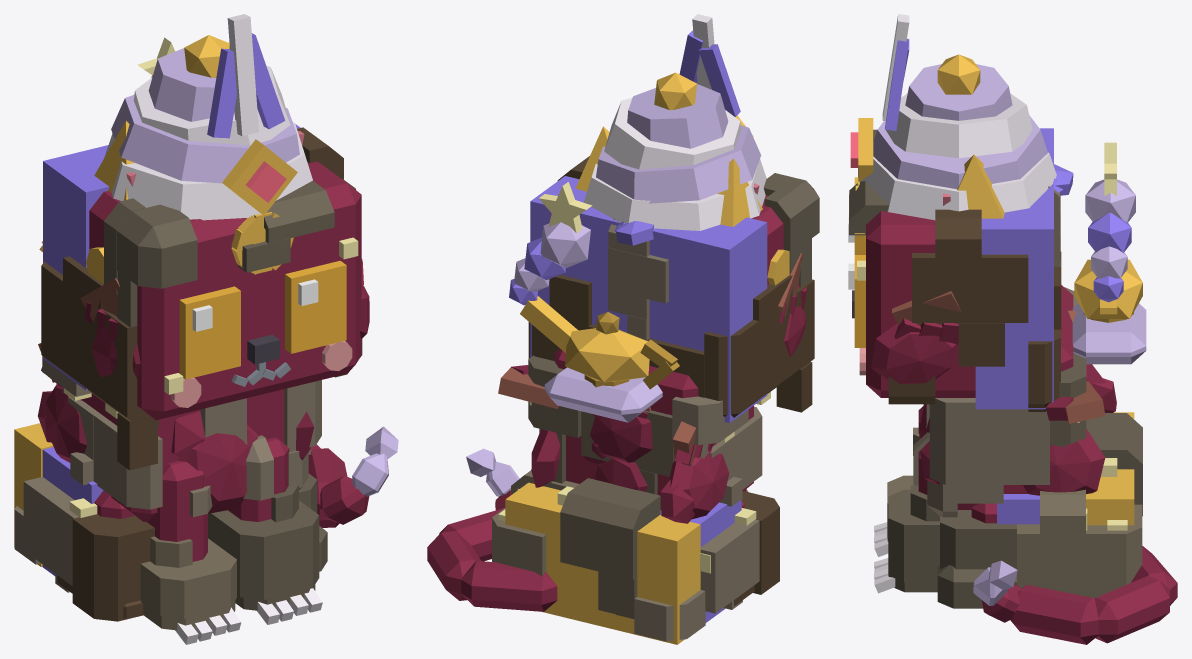
The model's file is CleanACat_Cat_Djinn_Dirty_Sit.fbx.
The picture shows the model from 3 angles, left to right: view 1: azimuth 30°, elevation 25°; view 2: azimuth 150°, elevation 25°; view 3: azimuth 270°, elevation 25°; orthographic projection. The views are drawn at different scales.
Visible parts, largest first — view 1: CleanACat_Cat_Djinn_Dirty_Sit_Head, CleanACat_Cat_Djinn_Dirty_Sit_Prop, CleanACat_Cat_Djinn_Dirty_Sit_Mud01, CleanACat_Cat_Djinn_Dirty_Sit_Mud17, CleanACat_Cat_Djinn_Dirty_Sit_Mud06, CleanACat_Cat_Djinn_Dirty_Sit_Body, CleanACat_Cat_Djinn_Dirty_Sit_Mud16, CleanACat_Cat_Djinn_Dirty_Sit_Mud18, CleanACat_Cat_Djinn_Dirty_Sit_Mud10, CleanACat_Cat_Djinn_Dirty_Sit_Eye1, CleanACat_Cat_Djinn_Dirty_Sit_Eye2, CleanACat_Cat_Djinn_Dirty_Sit_Tail (+18 smaller); view 2: CleanACat_Cat_Djinn_Dirty_Sit_Prop, CleanACat_Cat_Djinn_Dirty_Sit_Head, CleanACat_Cat_Djinn_Dirty_Sit_Body, CleanACat_Cat_Djinn_Dirty_Sit_Prop2, CleanACat_Cat_Djinn_Dirty_Sit_Mud01, CleanACat_Cat_Djinn_Dirty_Sit_Mud13, CleanACat_Cat_Djinn_Dirty_Sit_Tail, CleanACat_Cat_Djinn_Dirty_Sit_Mud14, CleanACat_Cat_Djinn_Dirty_Sit_Mud09, CleanACat_Cat_Djinn_Dirty_Sit_Mud04, CleanACat_Cat_Djinn_Dirty_Sit_Mud06, CleanACat_Cat_Djinn_Dirty_Sit_Fluff06 (+15 smaller); view 3: CleanACat_Cat_Djinn_Dirty_Sit_Prop, CleanACat_Cat_Djinn_Dirty_Sit_Head, CleanACat_Cat_Djinn_Dirty_Sit_Mud02, CleanACat_Cat_Djinn_Dirty_Sit_Mud08, CleanACat_Cat_Djinn_Dirty_Sit_Prop2, CleanACat_Cat_Djinn_Dirty_Sit_Tail, CleanACat_Cat_Djinn_Dirty_Sit_Mud12, CleanACat_Cat_Djinn_Dirty_Sit_Body, CleanACat_Cat_Djinn_Dirty_Sit_Mud15, CleanACat_Cat_Djinn_Dirty_Sit_Mud17, CleanACat_Cat_Djinn_Dirty_Sit_Fluff01, CleanACat_Cat_Djinn_Dirty_Sit_Fluff05 (+12 smaller).
Boxes of the visible parts, x1,y1,x2,y2 form: CleanACat_Cat_Djinn_Dirty_Sit_Head: (43,124,361,420); CleanACat_Cat_Djinn_Dirty_Sit_Prop: (86,14,312,284); CleanACat_Cat_Djinn_Dirty_Sit_Mud01: (41,256,158,470); CleanACat_Cat_Djinn_Dirty_Sit_Mud17: (208,484,319,610); CleanACat_Cat_Djinn_Dirty_Sit_Mud06: (104,198,197,327); CleanACat_Cat_Djinn_Dirty_Sit_Body: (14,388,284,575); CleanACat_Cat_Djinn_Dirty_Sit_Mud16: (57,514,154,621); CleanACat_Cat_Djinn_Dirty_Sit_Mud18: (140,536,236,630); CleanACat_Cat_Djinn_Dirty_Sit_Mud10: (68,396,162,509); CleanACat_Cat_Djinn_Dirty_Sit_Eye1: (285,260,346,353); CleanACat_Cat_Djinn_Dirty_Sit_Eye2: (179,286,240,379); CleanACat_Cat_Djinn_Dirty_Sit_Tail: (308,426,398,527); CleanACat_Cat_Djinn_Dirty_Sit_Prop: (583,14,789,285); CleanACat_Cat_Djinn_Dirty_Sit_Head: (530,176,783,422); CleanACat_Cat_Djinn_Dirty_Sit_Body: (498,348,770,644); CleanACat_Cat_Djinn_Dirty_Sit_Prop2: (509,182,679,422); CleanACat_Cat_Djinn_Dirty_Sit_Mud01: (646,275,814,417); CleanACat_Cat_Djinn_Dirty_Sit_Mud13: (560,478,660,618); CleanACat_Cat_Djinn_Dirty_Sit_Tail: (427,448,557,611); CleanACat_Cat_Djinn_Dirty_Sit_Mud14: (634,519,759,641); CleanACat_Cat_Djinn_Dirty_Sit_Mud09: (528,355,673,494); CleanACat_Cat_Djinn_Dirty_Sit_Mud04: (608,217,668,340); CleanACat_Cat_Djinn_Dirty_Sit_Mud06: (763,173,819,287); CleanACat_Cat_Djinn_Dirty_Sit_Fluff06: (660,447,729,523); CleanACat_Cat_Djinn_Dirty_Sit_Prop: (858,14,1056,220); CleanACat_Cat_Djinn_Dirty_Sit_Head: (852,128,1053,409); CleanACat_Cat_Djinn_Dirty_Sit_Mud02: (888,209,1028,404); CleanACat_Cat_Djinn_Dirty_Sit_Mud08: (927,398,1049,517); CleanACat_Cat_Djinn_Dirty_Sit_Prop2: (1072,142,1146,364); CleanACat_Cat_Djinn_Dirty_Sit_Tail: (973,546,1177,644); CleanACat_Cat_Djinn_Dirty_Sit_Mud12: (1017,489,1142,598); CleanACat_Cat_Djinn_Dirty_Sit_Body: (957,285,1134,530); CleanACat_Cat_Djinn_Dirty_Sit_Mud15: (937,510,1016,608); CleanACat_Cat_Djinn_Dirty_Sit_Mud17: (888,485,939,592); CleanACat_Cat_Djinn_Dirty_Sit_Fluff01: (871,323,958,384); CleanACat_Cat_Djinn_Dirty_Sit_Fluff05: (1023,428,1105,495).
Size of the model in its own units: 1.34 by 2.28 by 1.24.
1 material, 1 textured.
